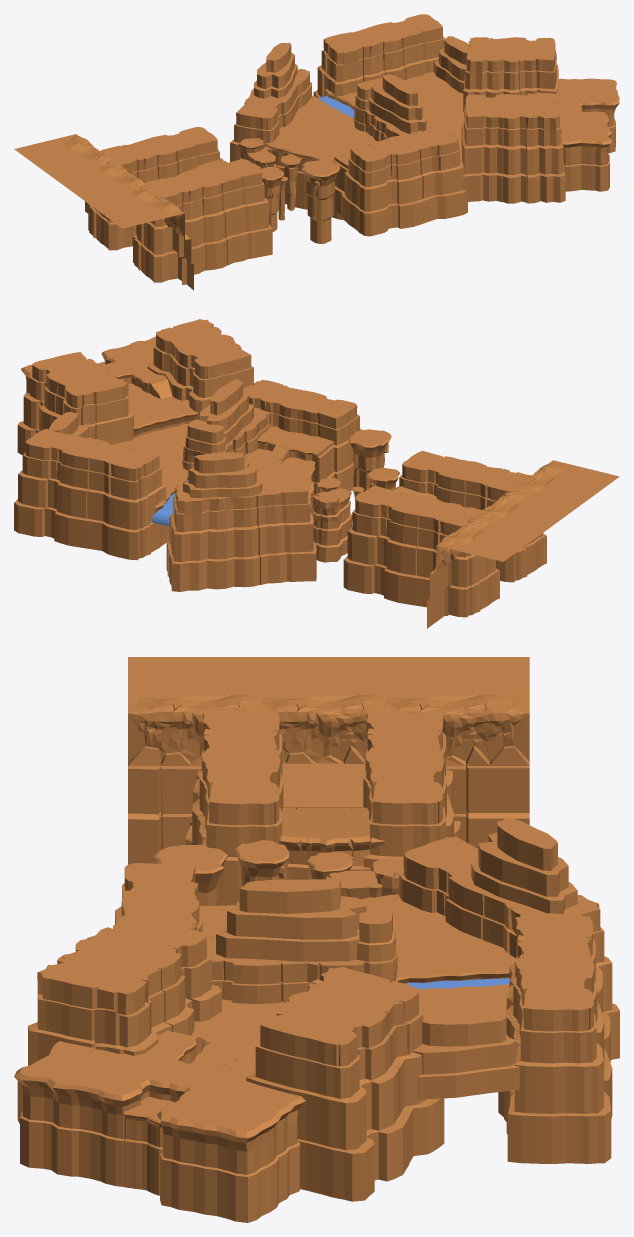
Rendered from Level1.fbx.
3 renders of one model, top to bottom at view 1: azimuth 30°, elevation 25°; view 2: azimuth 150°, elevation 25°; view 3: azimuth 270°, elevation 25°, orthographic. The views are drawn at different scales.
Visible parts, largest first — view 1: 立方体.053, 立方体.060, 立方体.052, 立方体.057, 立方体.059, 立方体.054, 平面.040, 立方体.049, 平面.032, 立方体.055, 平面.037, 平面.034 (+13 smaller); view 2: 立方体.057, 立方体.055, 立方体.054, 立方体.059, 立方体.060, 立方体.053, 立方体.052, 立方体.048, 立方体.056, 立方体.049, 圆环.009, 立方体.047 (+13 smaller); view 3: 立方体.059, 平面.040, 立方体.057, 立方体.060, 立方体.049, 立方体.048, 立方体.053, 立方体.054, 立方体.047, 立方体.050, 立方体.055, 平面.037 (+17 smaller).
Boxes of the visible parts, x1,y1,x2,y2 form: 立方体.053: (133,159,272,282); 立方体.060: (461,94,565,203); 立方体.052: (341,126,467,236); 立方体.057: (313,14,444,100); 立方体.059: (463,37,558,112); 立方体.054: (88,127,219,250); 平面.040: (558,78,619,191); 立方体.049: (81,186,193,290); 平面.032: (273,99,376,159); 立方体.055: (230,68,311,161); 平面.037: (532,81,610,138); 平面.034: (344,72,463,162); 立方体.057: (14,429,169,560); 立方体.055: (166,475,316,591); 立方体.054: (343,486,499,617); 立方体.059: (17,352,133,454); 立方体.060: (147,319,254,419); 立方体.053: (399,451,546,582); 立方体.052: (243,380,362,491); 立方体.048: (427,517,538,628); 立方体.056: (183,452,262,501); 立方体.049: (514,460,619,509); 圆环.009: (312,488,352,562); 立方体.047: (478,490,574,535); 立方体.059: (246,967,444,1201); 平面.040: (14,1041,305,1222); 立方体.057: (498,912,612,1163); 立方体.060: (17,915,221,1123); 立方体.049: (128,657,282,864); 立方体.048: (375,657,529,848); 立方体.053: (185,706,288,905); 立方体.054: (363,706,460,871); 立方体.047: (252,657,406,763); 立方体.050: (216,879,366,961); 立方体.055: (399,836,619,1059); 平面.037: (34,1033,291,1129).
Bounding box in the file's own units: 21048 × 11381 × 4353.
